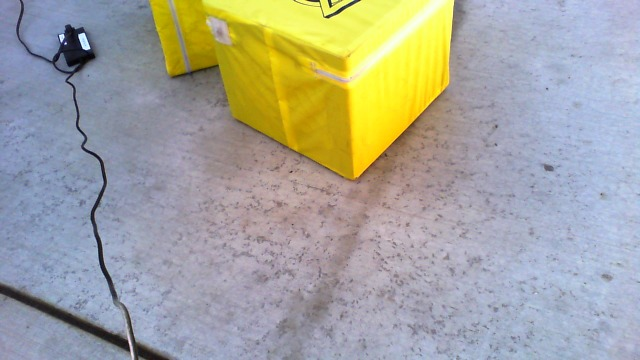cube: (201, 1, 453, 182), (144, 1, 219, 94)
